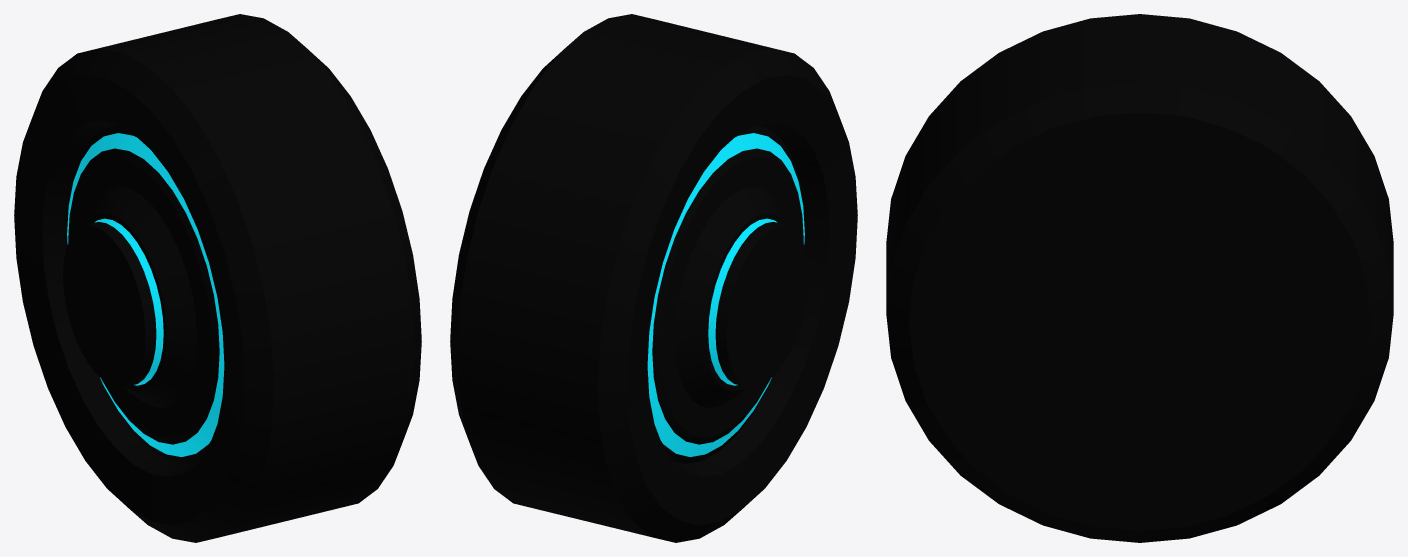
File: wheel-draco.glb
The picture shows the model from 3 angles, left to right: view 1: azimuth 30°, elevation 25°; view 2: azimuth 150°, elevation 25°; view 3: azimuth 270°, elevation 25°; orthographic projection.
Parts seen in each view (by area): view 1: Wheel; view 2: Wheel; view 3: Wheel.
Boxes of the visible parts, x1,y1,x2,y2 form: Wheel: (14,14,421,542); Wheel: (450,14,857,542); Wheel: (886,14,1393,542).
Size of the model in its own units: 0.0349 by 0.0756 by 0.0756.
Materials: 2 (2 with a texture image).
